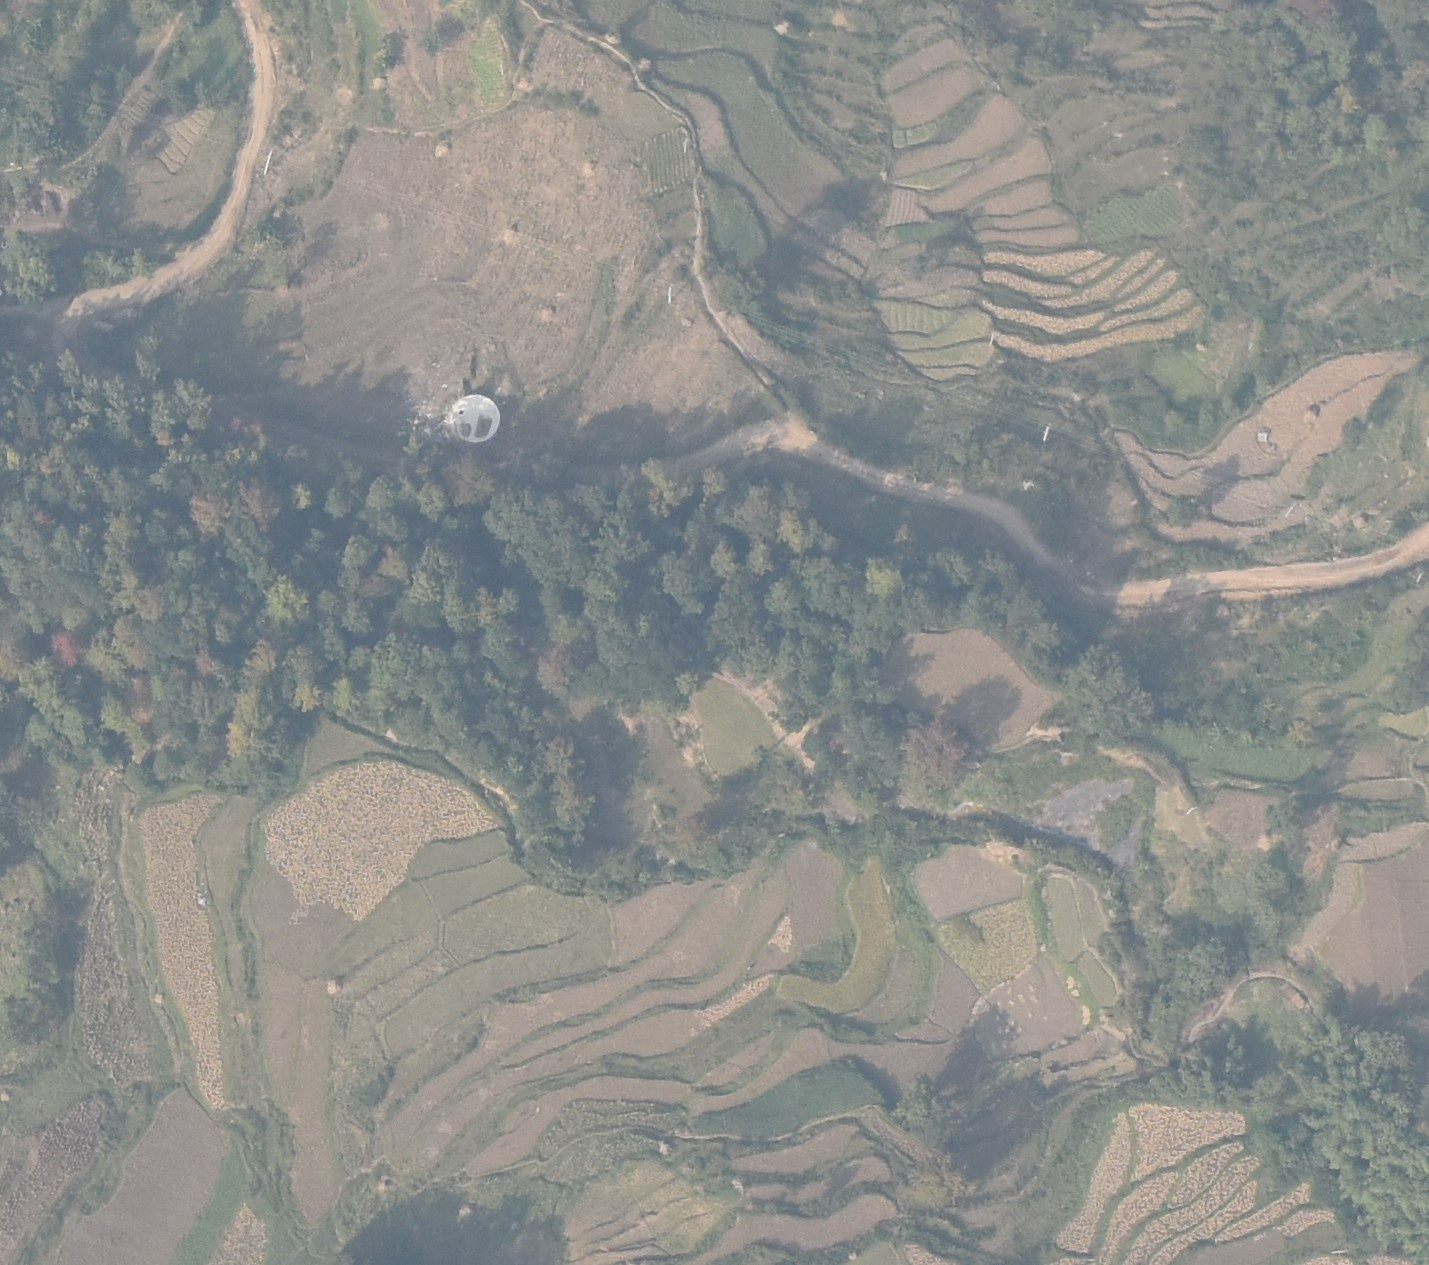cable-tower: (263, 149, 272, 175), (1043, 422, 1051, 443), (1284, 504, 1293, 517), (667, 286, 672, 303)
well: (449, 394, 501, 443)
